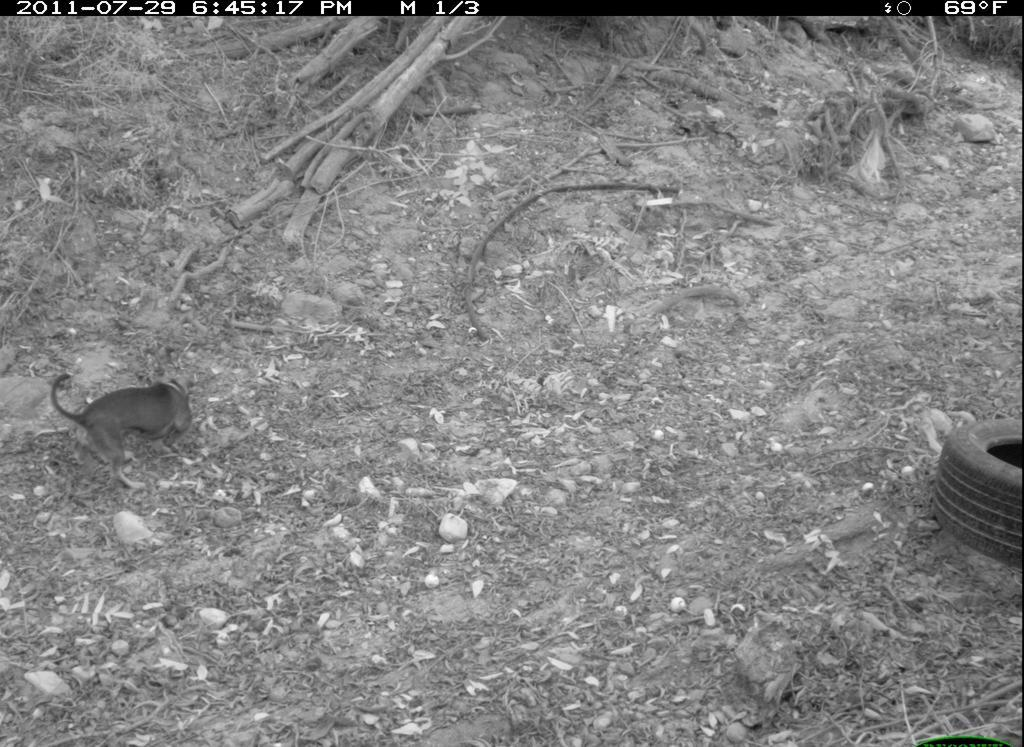dog: (31, 329, 203, 505)
